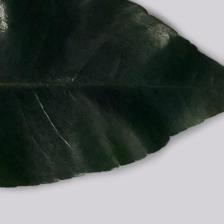healthy: (1, 4, 224, 198)
